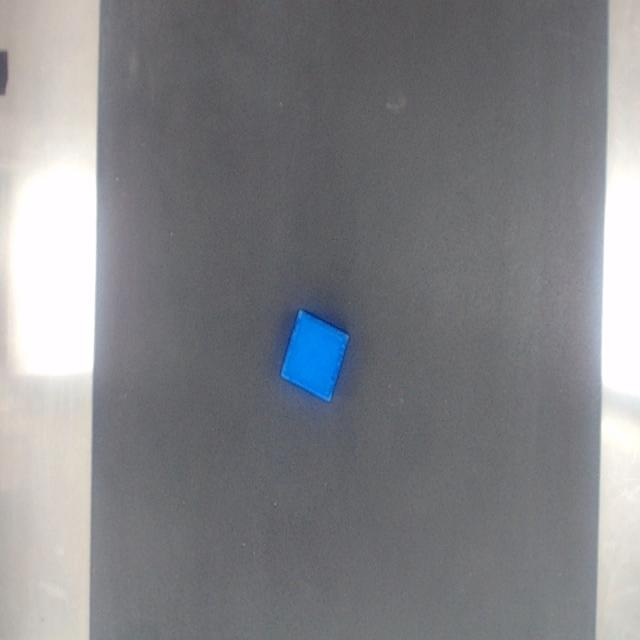Azul: (280, 311, 349, 401)
